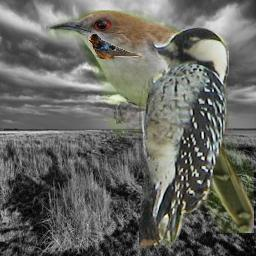Cuckoo: (46, 10, 254, 233)
Swallow: (88, 33, 146, 59)
Woodpecker: (139, 26, 229, 248)
